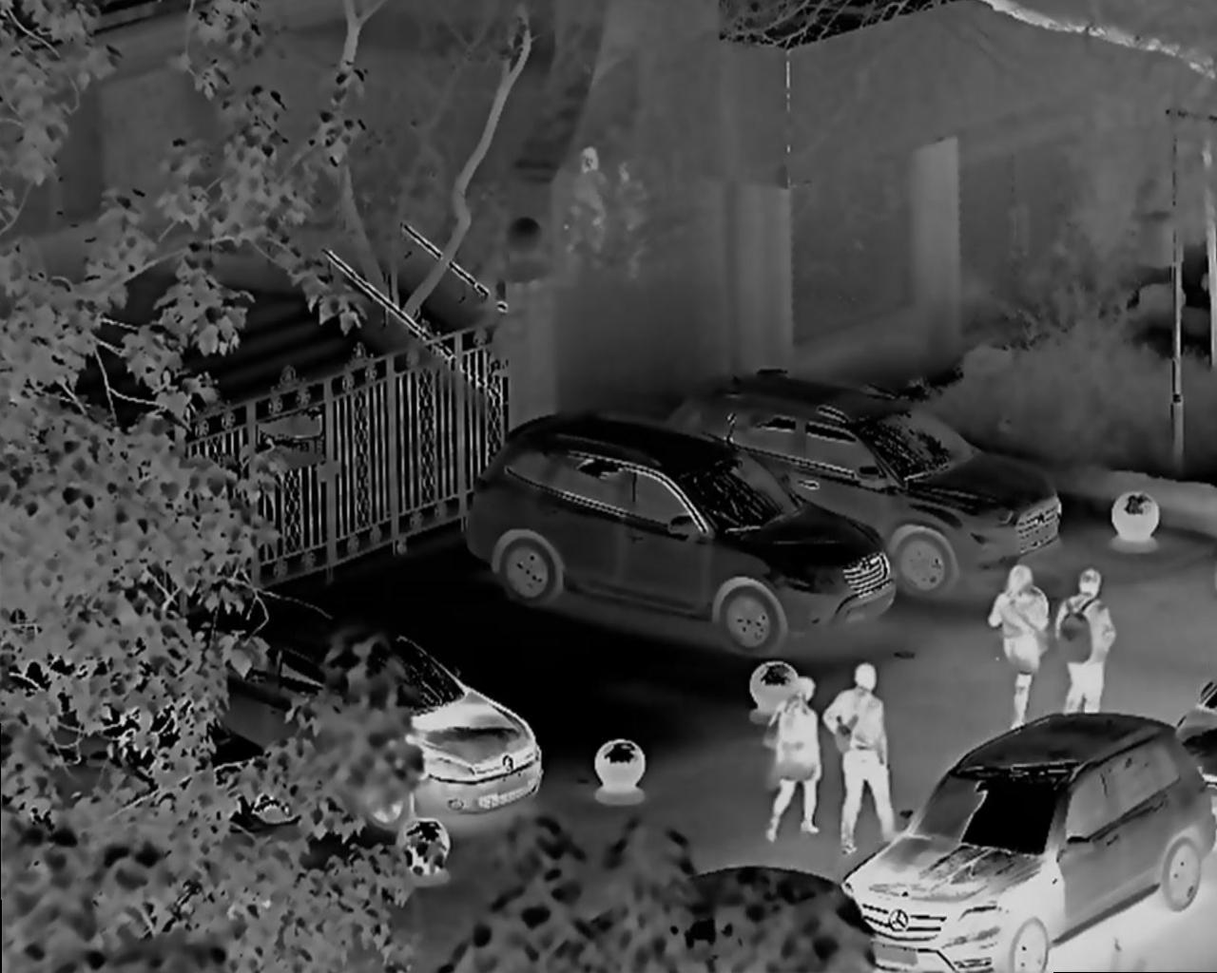person: (821, 661, 902, 852), (1052, 565, 1129, 724), (989, 557, 1049, 745), (768, 678, 826, 849)
